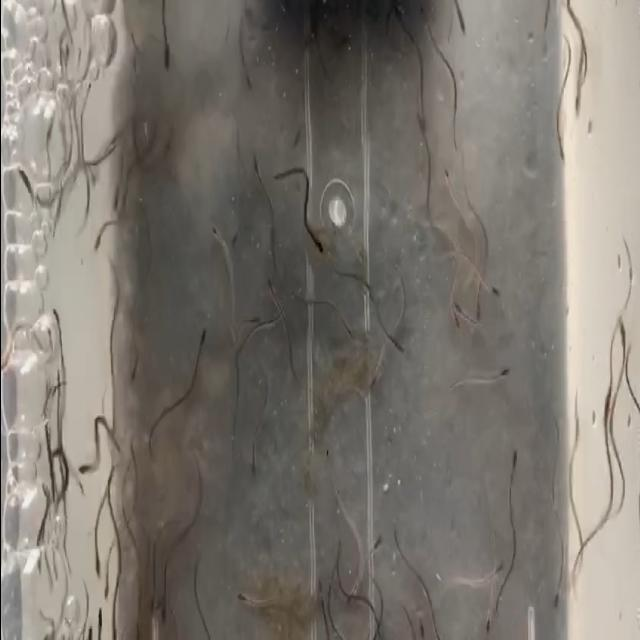active_glass_eel: (598, 378, 614, 434), (446, 284, 462, 338), (126, 341, 145, 385), (248, 427, 264, 478), (612, 307, 626, 362), (363, 360, 383, 396), (12, 150, 30, 190), (388, 330, 410, 362), (93, 218, 113, 253), (67, 460, 89, 490), (548, 572, 563, 614), (228, 220, 248, 250), (101, 558, 114, 603), (91, 526, 101, 584), (266, 266, 280, 307), (234, 585, 256, 611), (480, 602, 495, 640), (452, 0, 466, 40), (309, 228, 329, 256), (194, 328, 208, 366), (242, 302, 264, 326), (314, 567, 328, 604), (452, 298, 469, 328), (555, 130, 569, 166), (76, 458, 100, 479), (111, 169, 123, 211), (504, 442, 518, 477), (344, 579, 362, 606), (158, 605, 174, 635), (488, 555, 505, 583), (160, 37, 172, 74), (367, 531, 384, 557), (0, 343, 13, 377), (486, 273, 502, 300), (344, 315, 362, 339), (93, 600, 104, 638), (572, 86, 584, 120), (492, 362, 512, 382), (252, 151, 264, 183), (209, 215, 225, 239), (414, 612, 426, 640), (83, 611, 93, 640), (440, 160, 450, 188)
